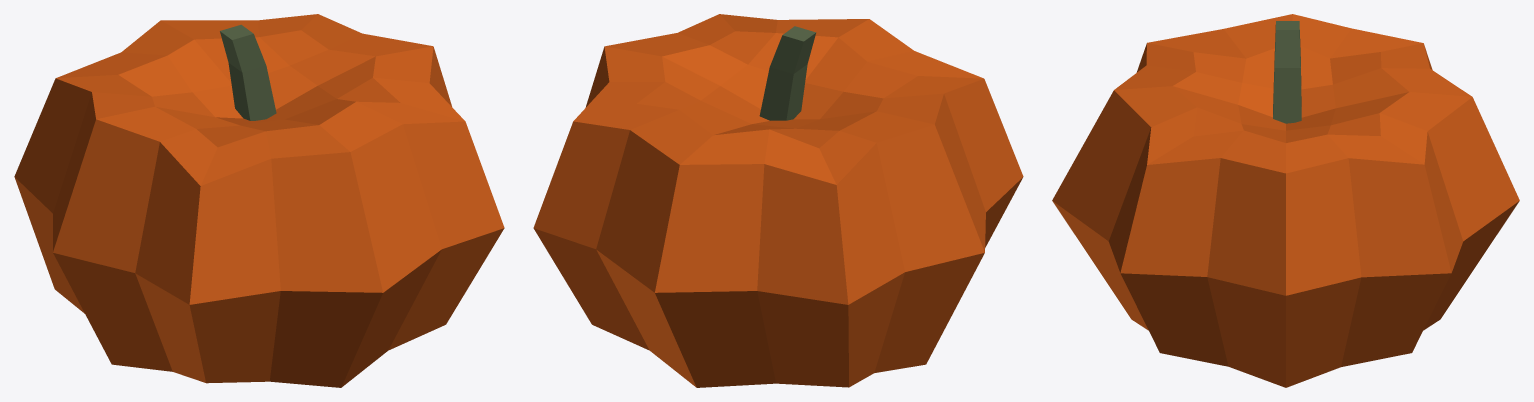
File: pumpkin.fbx
3 views of the same model, side by side, from view 1: azimuth 30°, elevation 25°; view 2: azimuth 150°, elevation 25°; view 3: azimuth 270°, elevation 25° (orthographic). The views are drawn at different scales.
Parts seen in each view (by area): view 1: pumpkin; view 2: pumpkin; view 3: pumpkin.
Part boxes in pixels (bbox=[...]): pumpkin: bbox=[14, 14, 504, 387]; pumpkin: bbox=[533, 14, 1023, 387]; pumpkin: bbox=[1052, 14, 1519, 387].
Size of the model in its own units: 30.28 by 21.99 by 31.41.
Materials: 1 (1 with a texture image).
